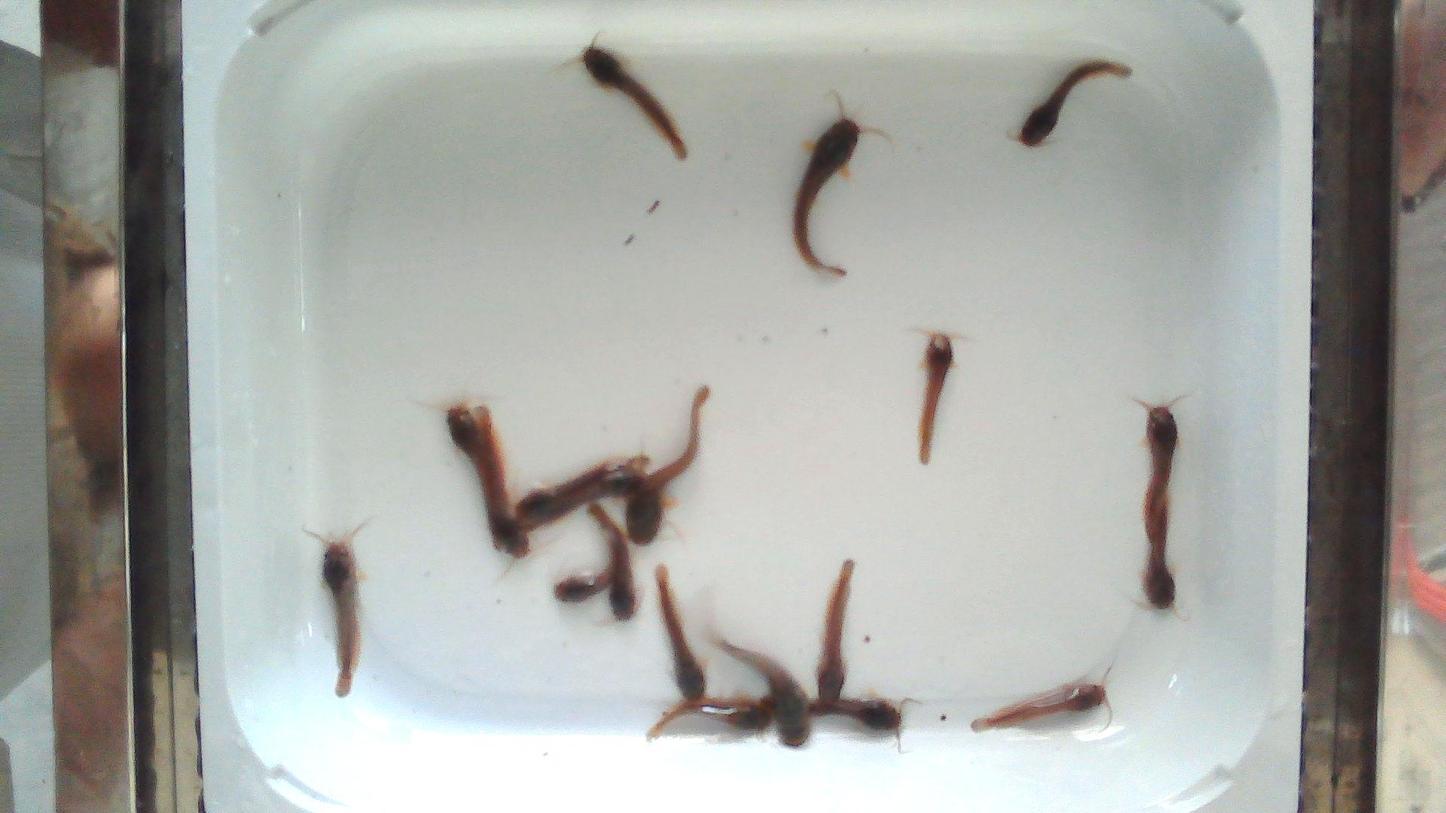lele: (704, 610, 811, 749), (619, 390, 707, 544), (582, 39, 686, 160), (793, 115, 861, 276), (1019, 59, 1130, 146), (515, 455, 650, 521), (476, 406, 531, 561), (524, 468, 648, 531), (319, 527, 360, 697), (445, 404, 493, 546), (653, 568, 703, 704), (972, 681, 1105, 731), (657, 695, 772, 742), (817, 560, 854, 705), (594, 505, 635, 622), (917, 333, 953, 464), (553, 533, 617, 601), (1144, 405, 1175, 543), (1143, 501, 1175, 609), (805, 698, 907, 729)
